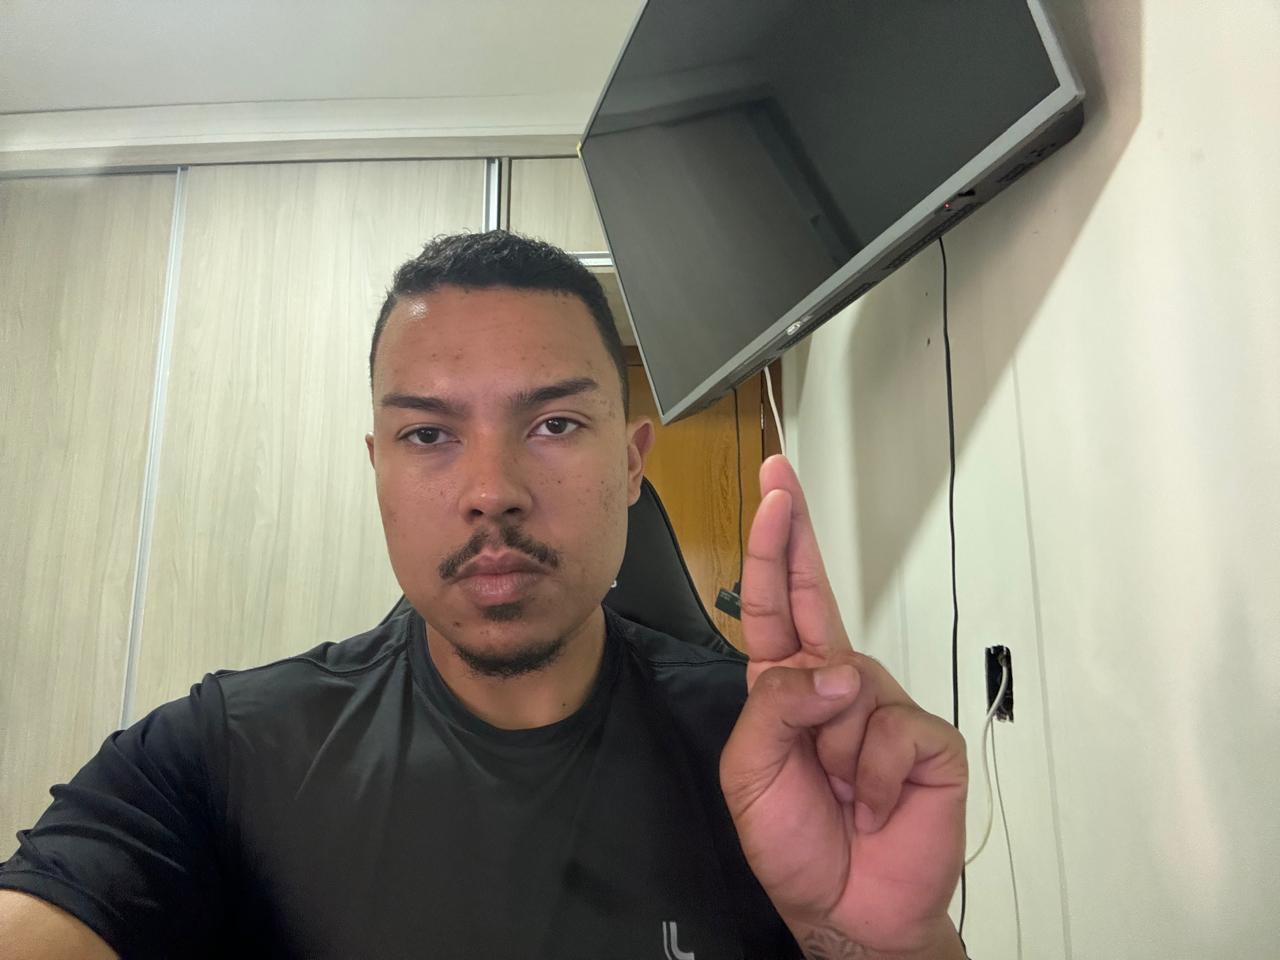r: (703, 450, 990, 942)
